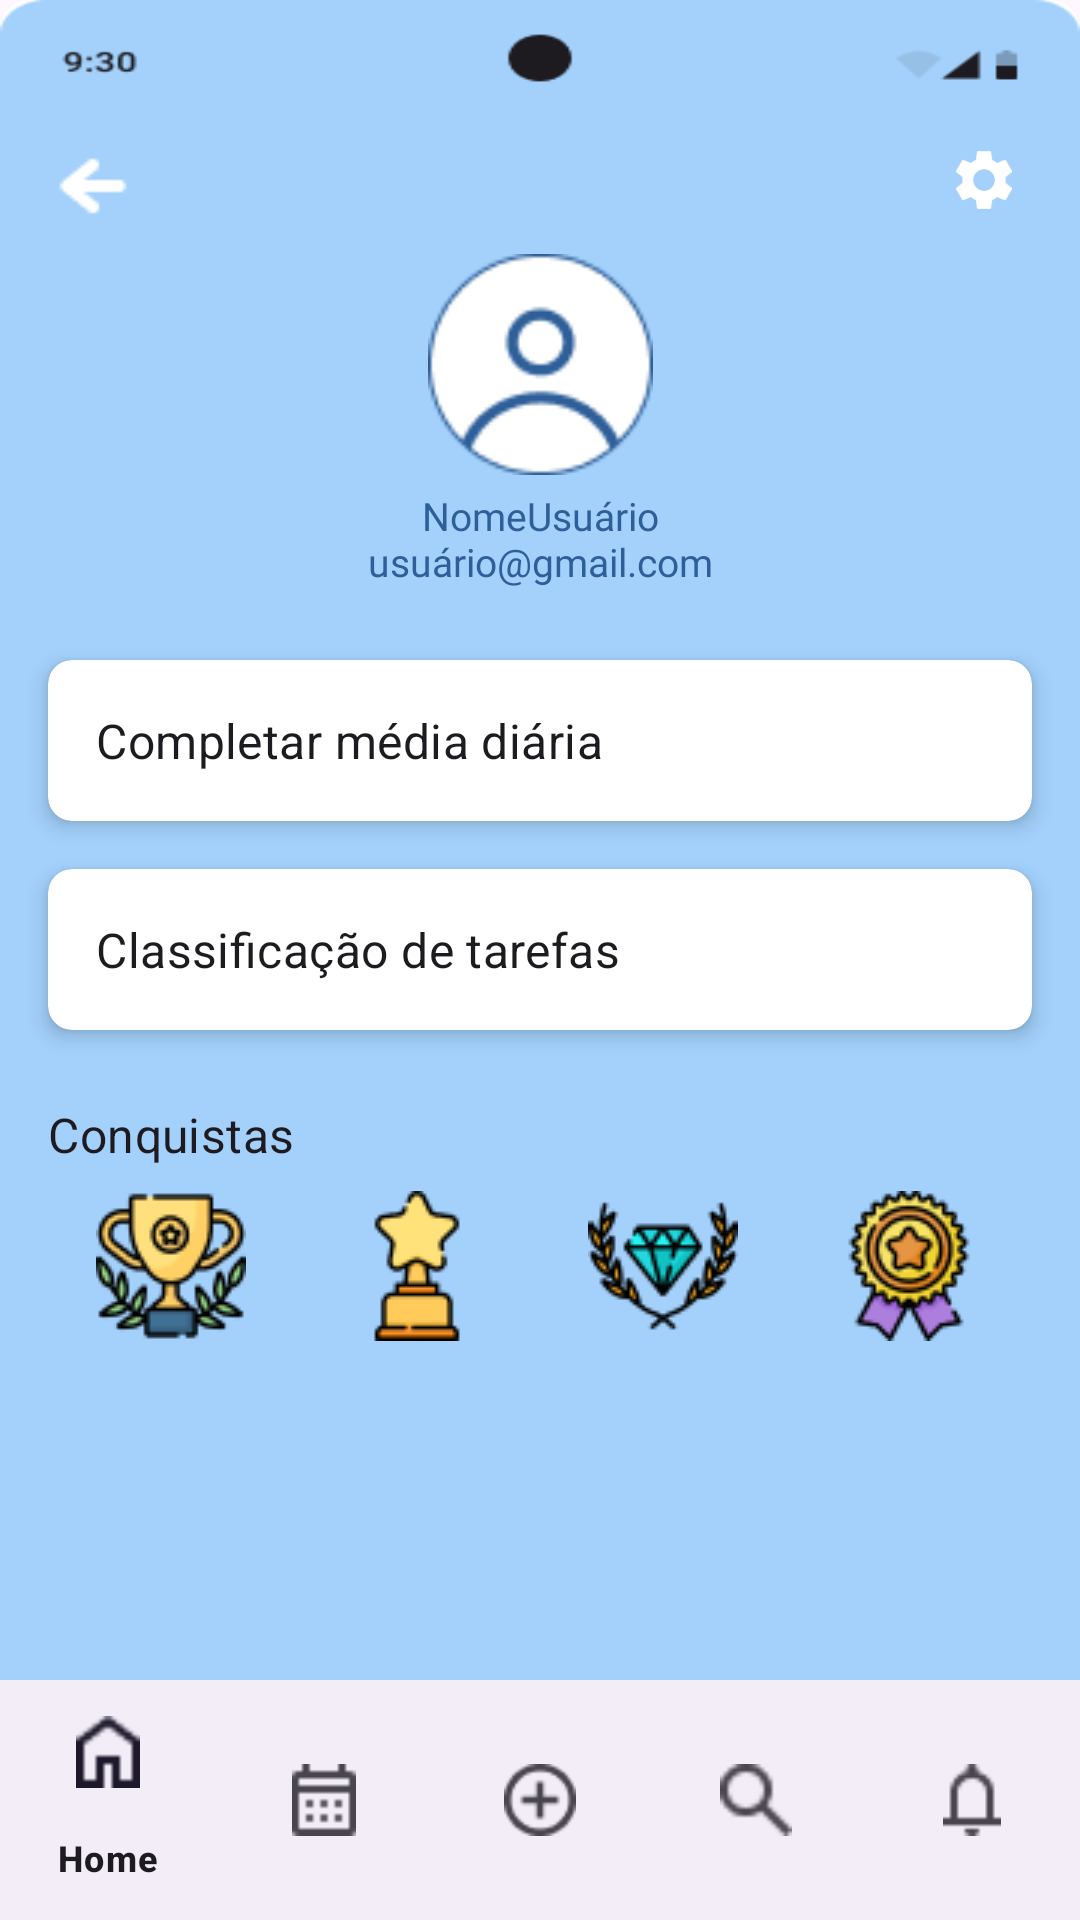

Named icons in this screenshot (1080×1920) and their centers, (x=x, y=y):
Descrição configurações: (x=984, y=180)
Descrição seta preta: (x=93, y=186)
Diamante Conquista descrição: (x=663, y=1266)
Estrela Conquista descrição: (x=417, y=1266)
Ouro Conquista descrição: (x=909, y=1266)
